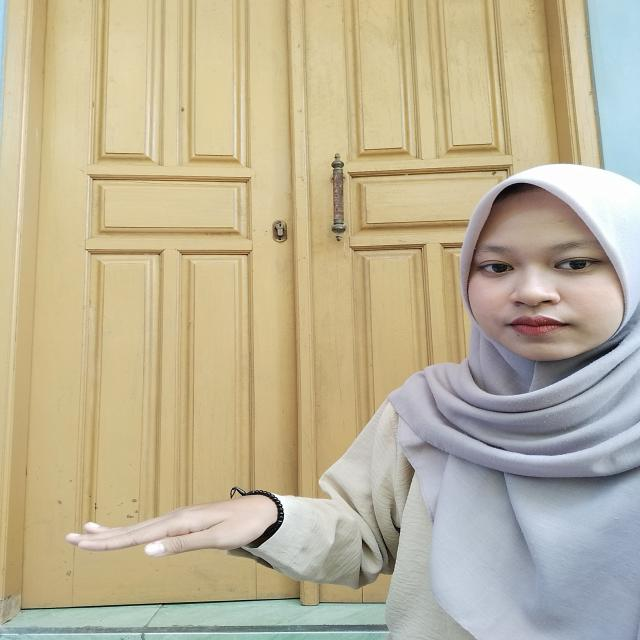adik: (63, 462, 290, 573)
